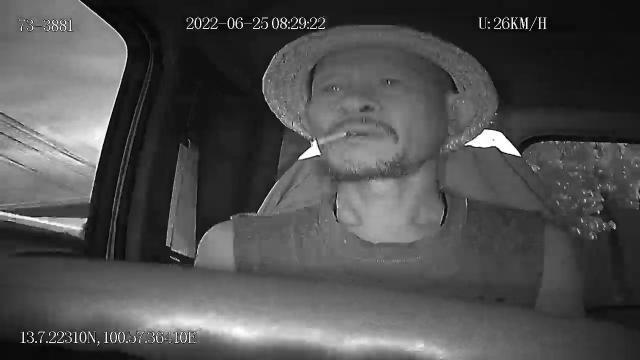SafeDriving: (374, 68, 411, 94), (318, 74, 354, 98)
Smoking: (309, 131, 346, 147)
